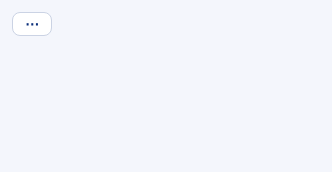
it: MoreMenu › is a menu button: arrows move, a pick runs and returns the focus
Click the button named "Actions for Household": (32, 24) [12,12,52,36]
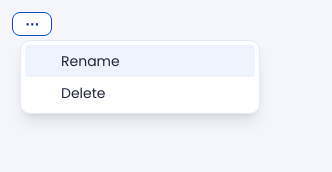
expect the button named "Actions for Household" is expanded: met, box [12,12,52,36]
expect the text "Rename" is shown: met, box [61,51,120,71]
Press Arrowdown
expect the text "Delete" is shown: met, box [61,83,106,103]
Press Enter
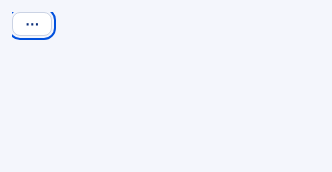
Click the button named "Actions for Household": (32, 24) [12,12,52,36]
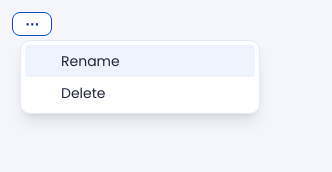
Press Escape
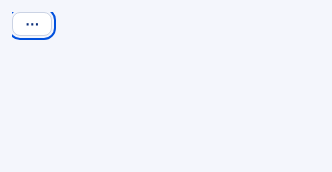
expect the menu is gone: met
